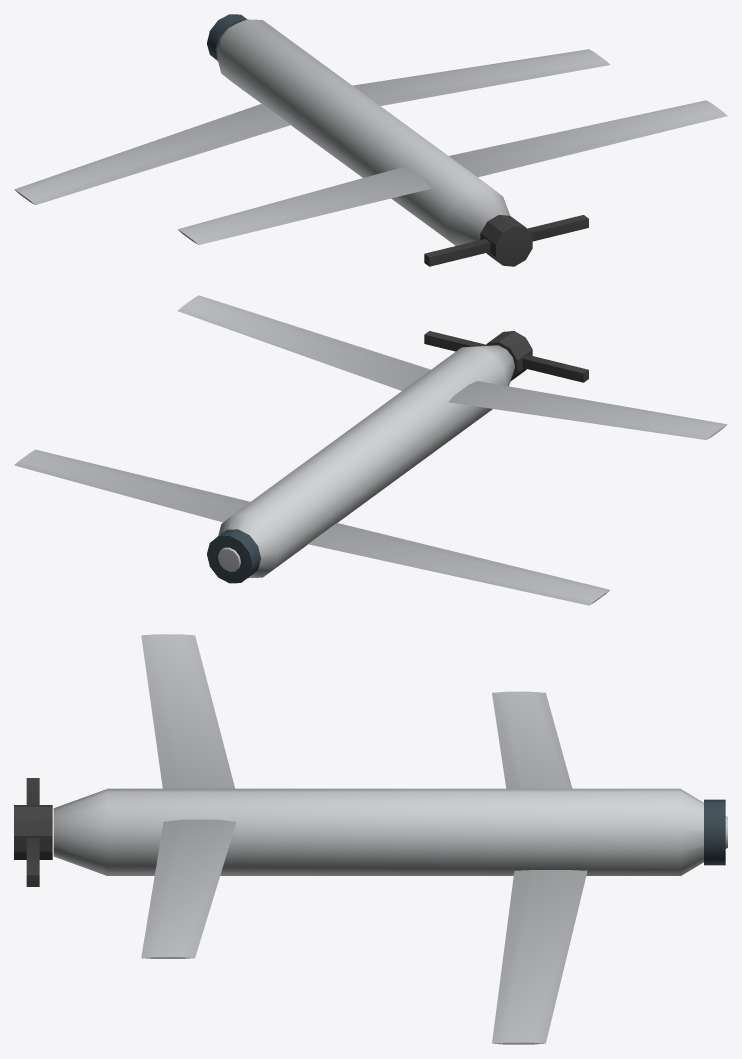
The model's file is usa_lm_sw600.glb.
3 views of the same model, one above another, from view 1: azimuth 30°, elevation 25°; view 2: azimuth 150°, elevation 25°; view 3: azimuth 270°, elevation 25° (orthographic). The views are drawn at different scales.
Parts seen in each view (by area): view 1: body, propy_0; view 2: body, propy_0; view 3: body, propy_0.
Part boxes in pixels (x1,y1,x2,y2): body: [14, 14, 727, 245]; propy_0: [424, 215, 588, 266]; body: [14, 295, 727, 605]; propy_0: [424, 331, 588, 382]; body: [53, 634, 727, 1044]; propy_0: [14, 778, 52, 886].
Bounding box in the file's own units: 1.6 × 0.169 × 1.38.
